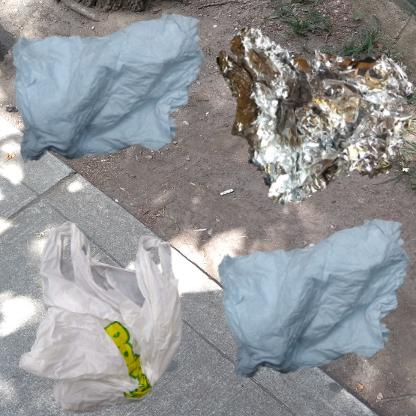aluminio: (213, 10, 416, 213)
bolsa: (10, 213, 212, 416)
papel: (213, 213, 416, 388), (10, 10, 213, 166)
